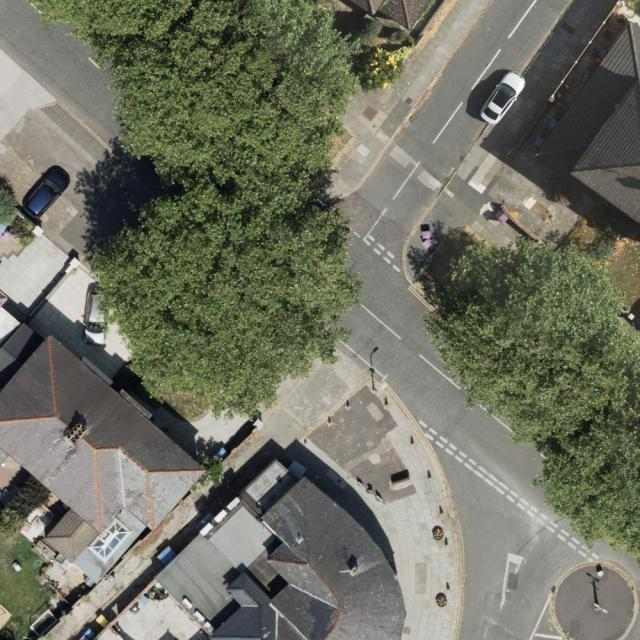roof: (0, 304, 210, 586), (92, 459, 406, 640), (534, 21, 640, 226), (346, 0, 433, 34)
skylight: (89, 518, 131, 561)
